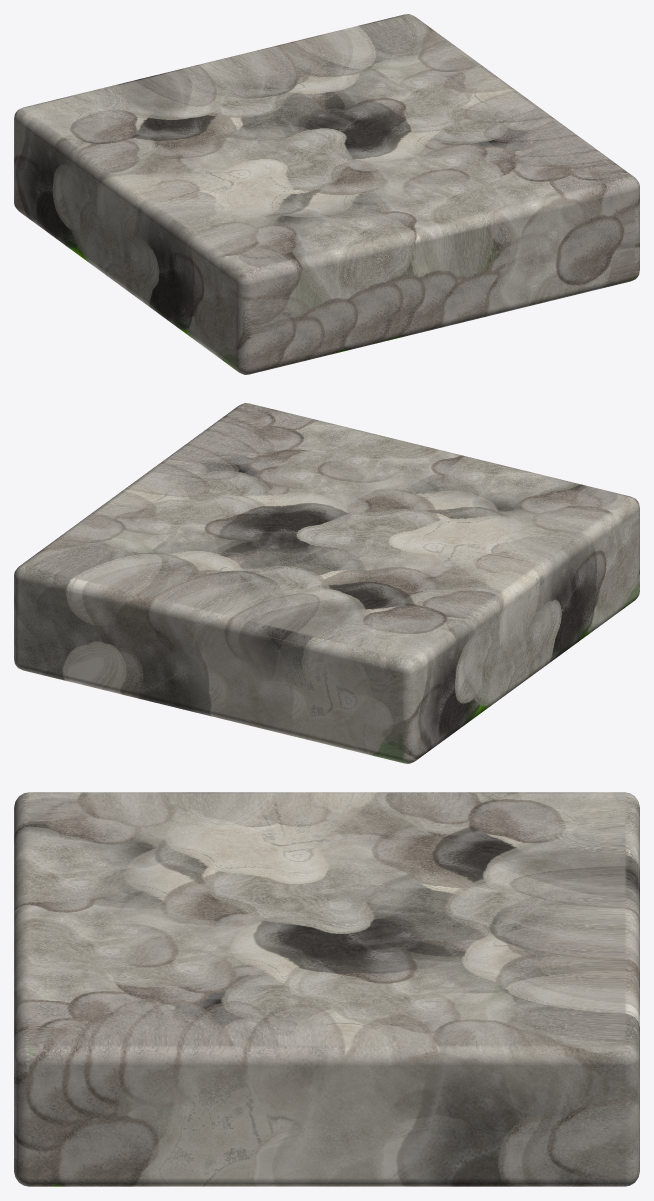
File: gravel-finished.fbx
3 renders of one model, top to bottom at view 1: azimuth 30°, elevation 25°; view 2: azimuth 150°, elevation 25°; view 3: azimuth 270°, elevation 25°, orthographic. The views are drawn at different scales.
Visible parts, largest first — view 1: gravel1; view 2: gravel1; view 3: gravel1.
Boxes of the visible parts, x1,y1,x2,y2 form: gravel1: (14, 14, 639, 374); gravel1: (14, 403, 639, 763); gravel1: (14, 792, 639, 1186).
Size of the model in its own units: 36.46 by 9.01 by 36.46.
Materials: 1 (1 with a texture image).
